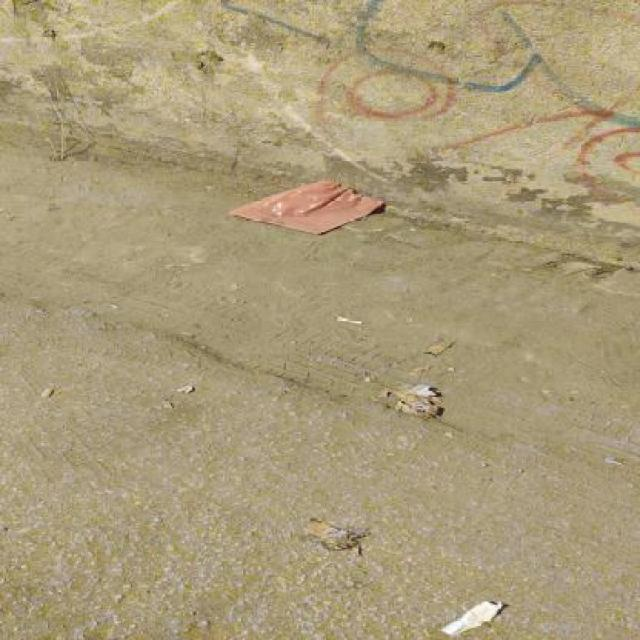plastic: (227, 179, 385, 235)
